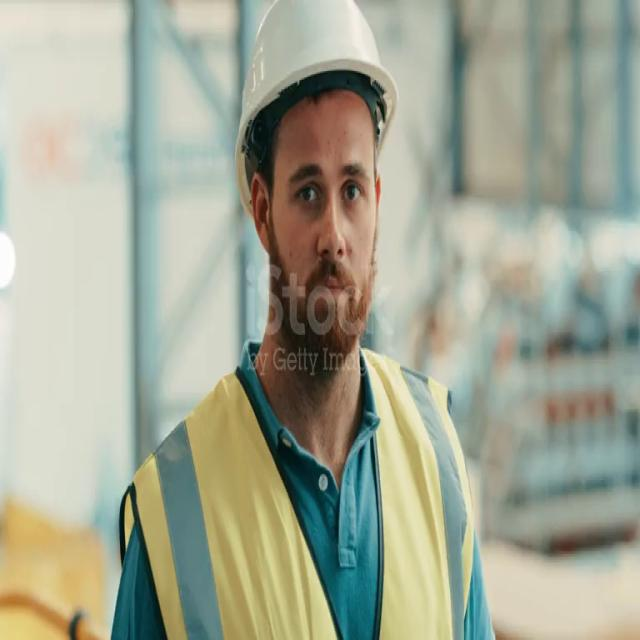capacete: (218, 3, 408, 222)
